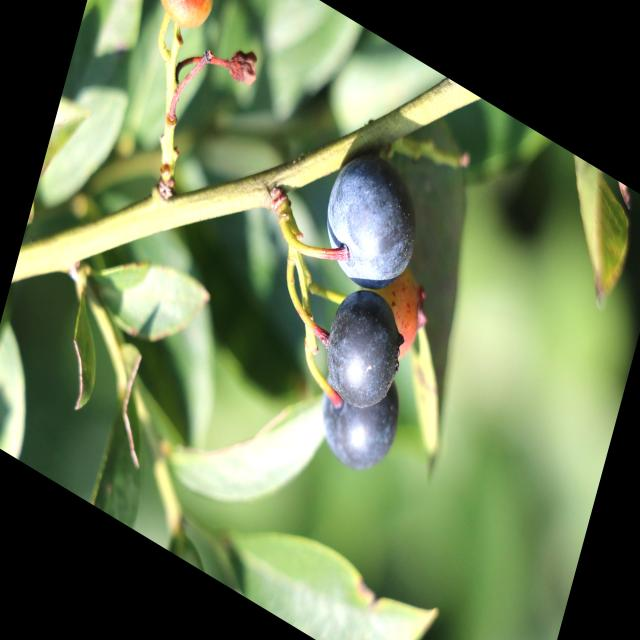blueberry: (309, 133, 432, 315), (304, 335, 412, 491), (312, 273, 414, 427)
blueberry-halfripe: (372, 263, 432, 369), (148, 0, 224, 40)
